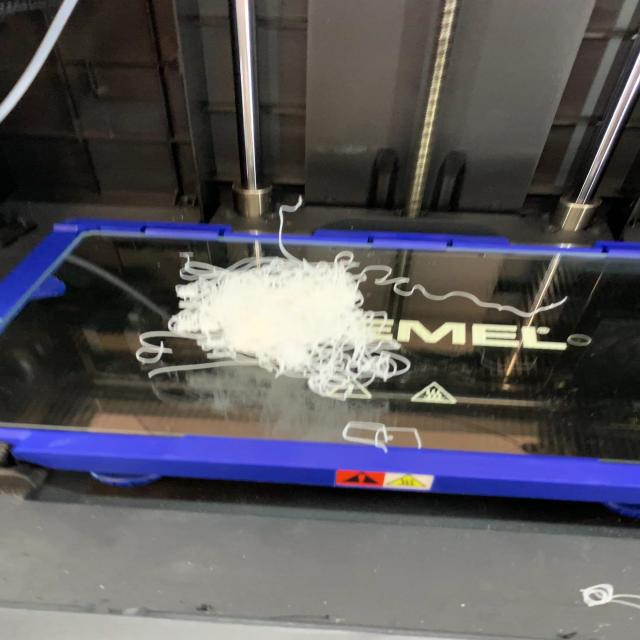spaghetti: (141, 248, 412, 400)
